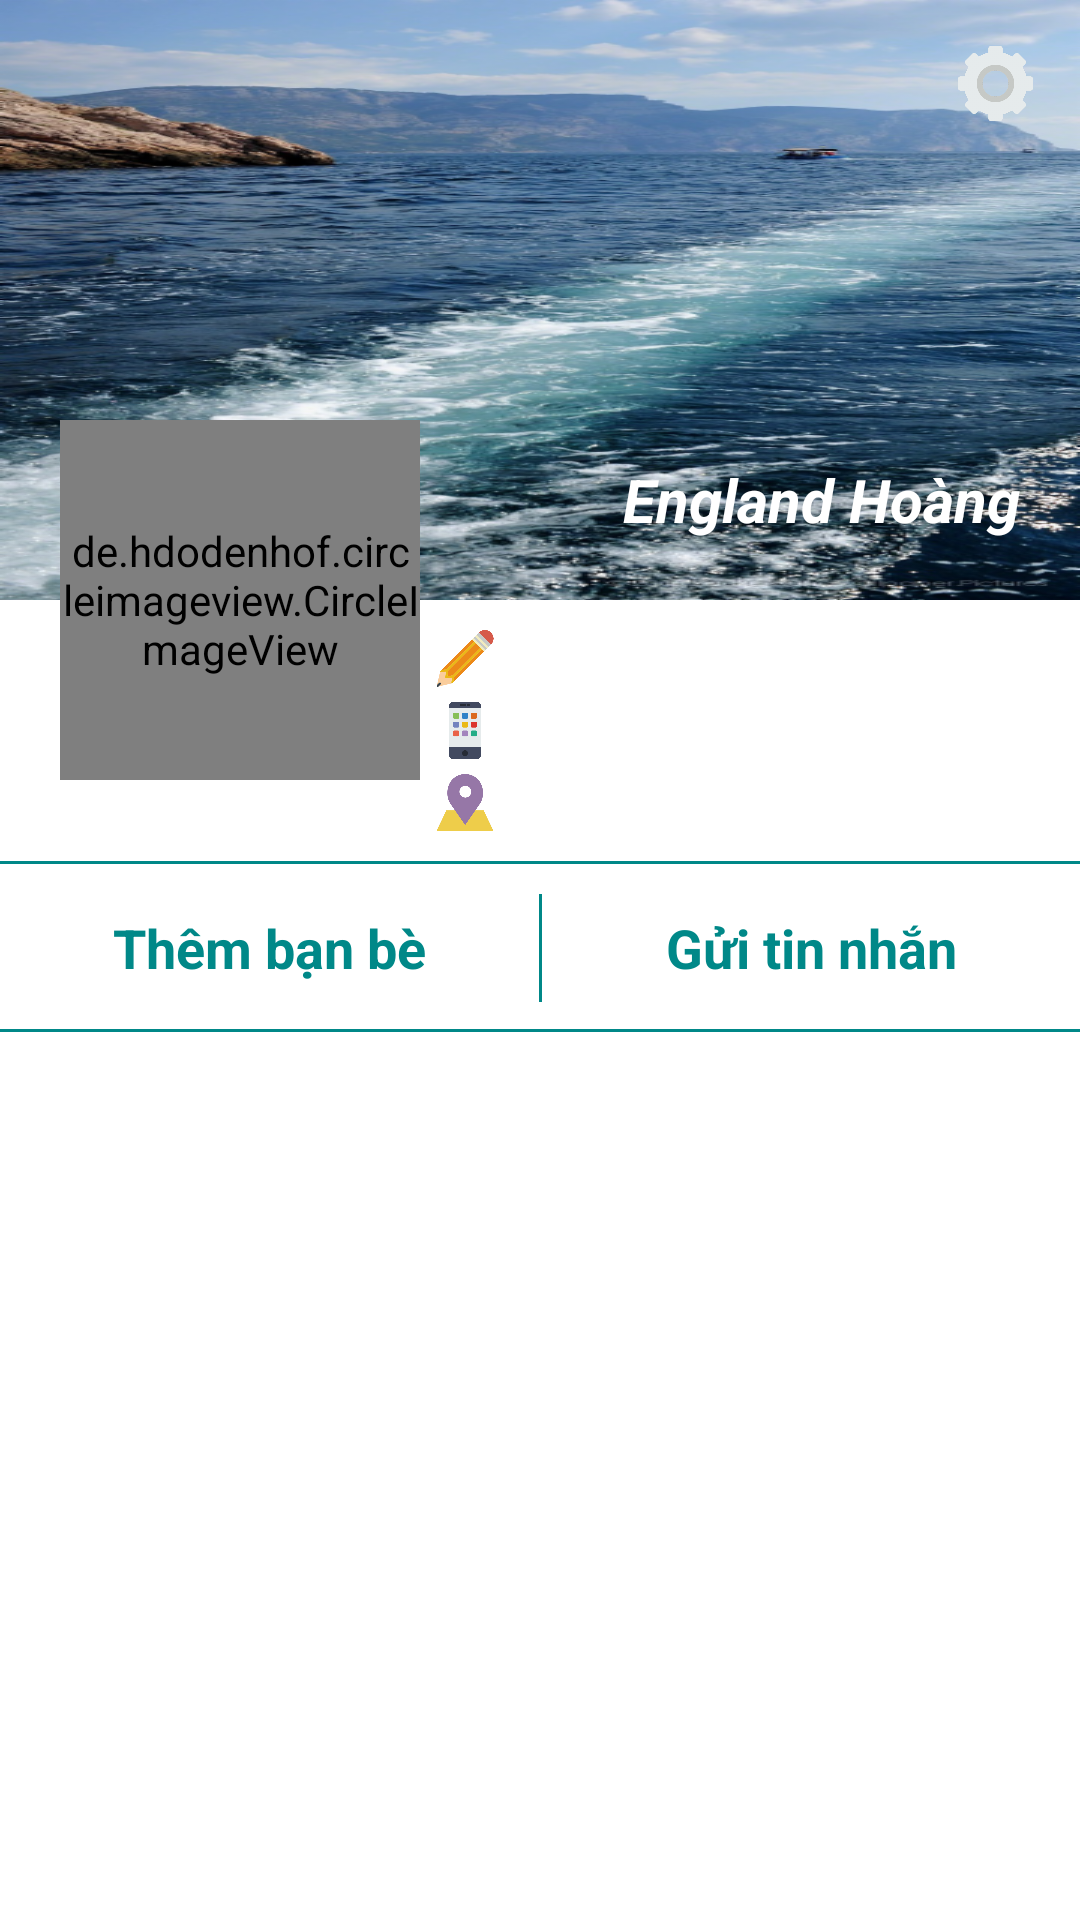

Locate icon controls on the screen. Image size 1080 x 1920, boxes as bbox=(x1, y1, x2, y2).
edit: bbox=(437, 630, 494, 687)
settings: bbox=(958, 46, 1033, 121)
smartphone: bbox=(449, 702, 481, 759)
